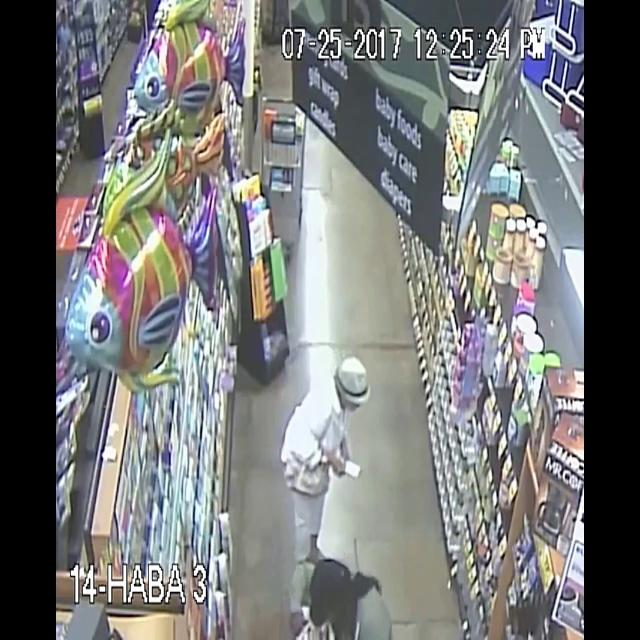normal: (246, 304, 396, 524), (282, 533, 402, 640)
